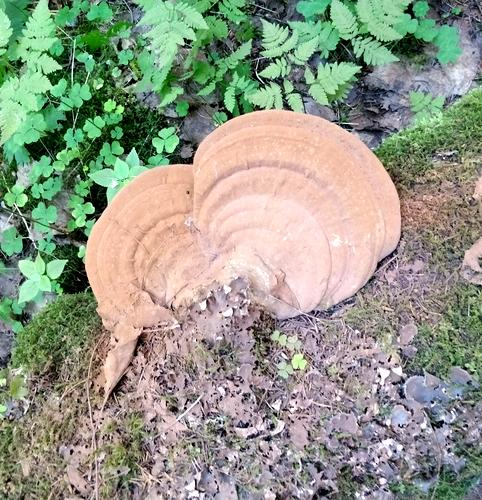Ganoderma - Fruit Body: (196, 106, 401, 312), (86, 161, 195, 331)
